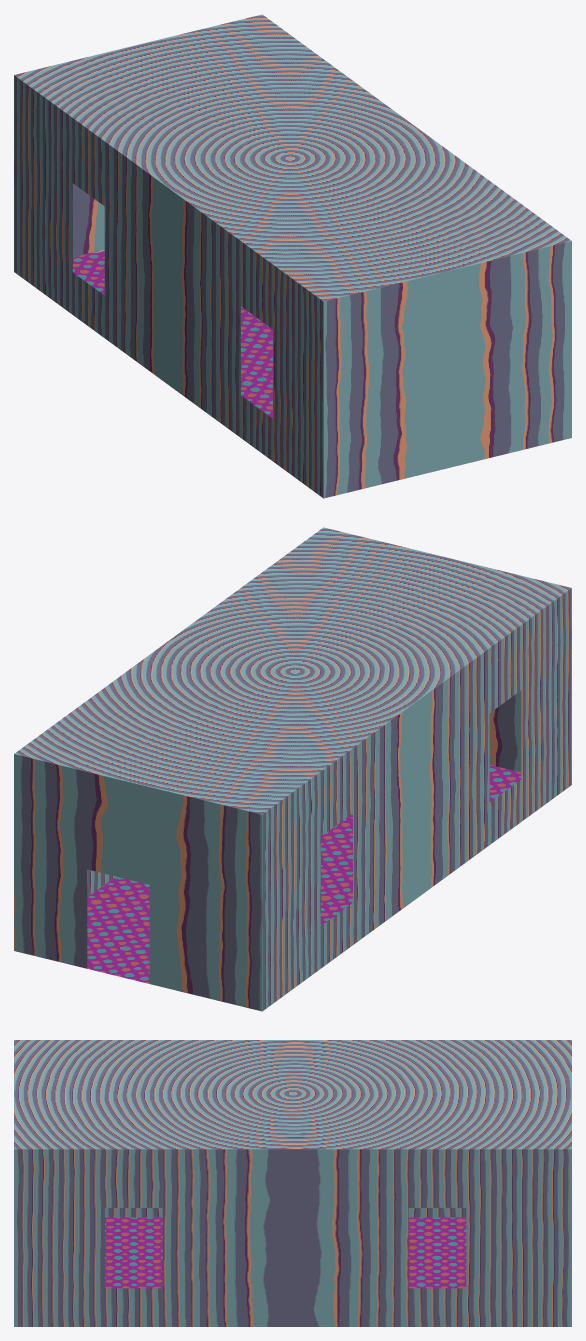
The model's file is interior_room2.glb.
3 views of the same model, one above another, from view 1: azimuth 30°, elevation 25°; view 2: azimuth 150°, elevation 25°; view 3: azimuth 270°, elevation 25° (orthographic). The views are drawn at different scales.
Parts seen in each view (by area): view 1: walls2Baked; view 2: walls2Baked; view 3: walls2Baked.
Boxes of the visible parts, x1,y1,x2,y2 form: walls2Baked: (14, 14, 571, 498); walls2Baked: (14, 527, 571, 1011); walls2Baked: (14, 1040, 571, 1326).
Size of the model in its own units: 4.76 by 3.61 by 10.28.
Materials: 1 (1 with a texture image).
